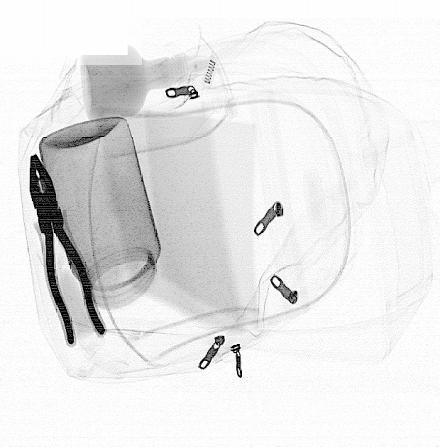Pliers: (29, 153, 110, 350)
